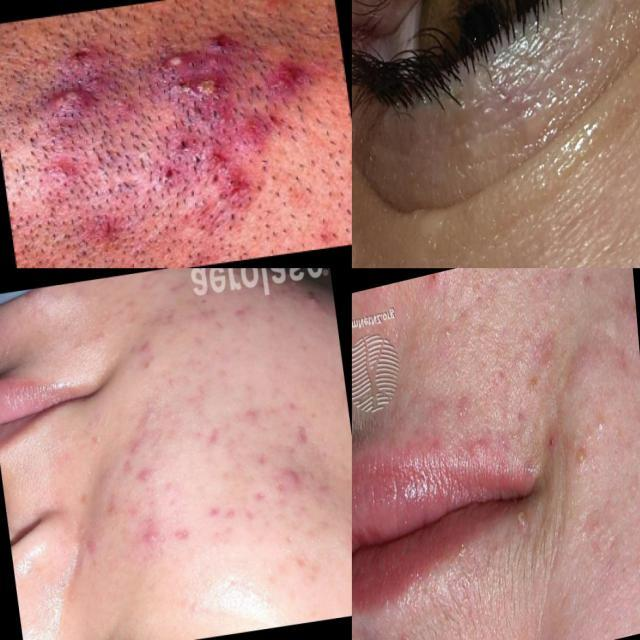Pimples: (162, 40, 233, 108), (202, 480, 270, 536), (132, 510, 176, 560), (280, 412, 328, 456), (44, 79, 84, 125), (282, 540, 326, 581), (270, 452, 310, 494), (352, 222, 385, 268), (299, 275, 330, 318), (236, 392, 266, 434), (277, 388, 314, 415), (198, 420, 222, 454), (514, 500, 535, 538), (574, 442, 592, 475), (98, 549, 116, 576)
